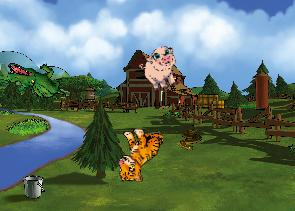crocodile: (6, 62, 66, 98)
pig: (136, 43, 186, 95)
tiger: (117, 127, 163, 182)
